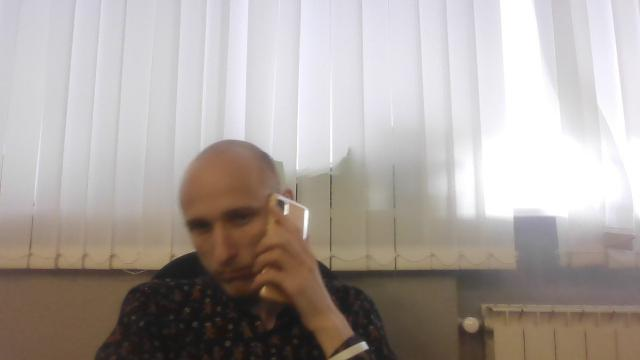Phone: (262, 190, 308, 308)
